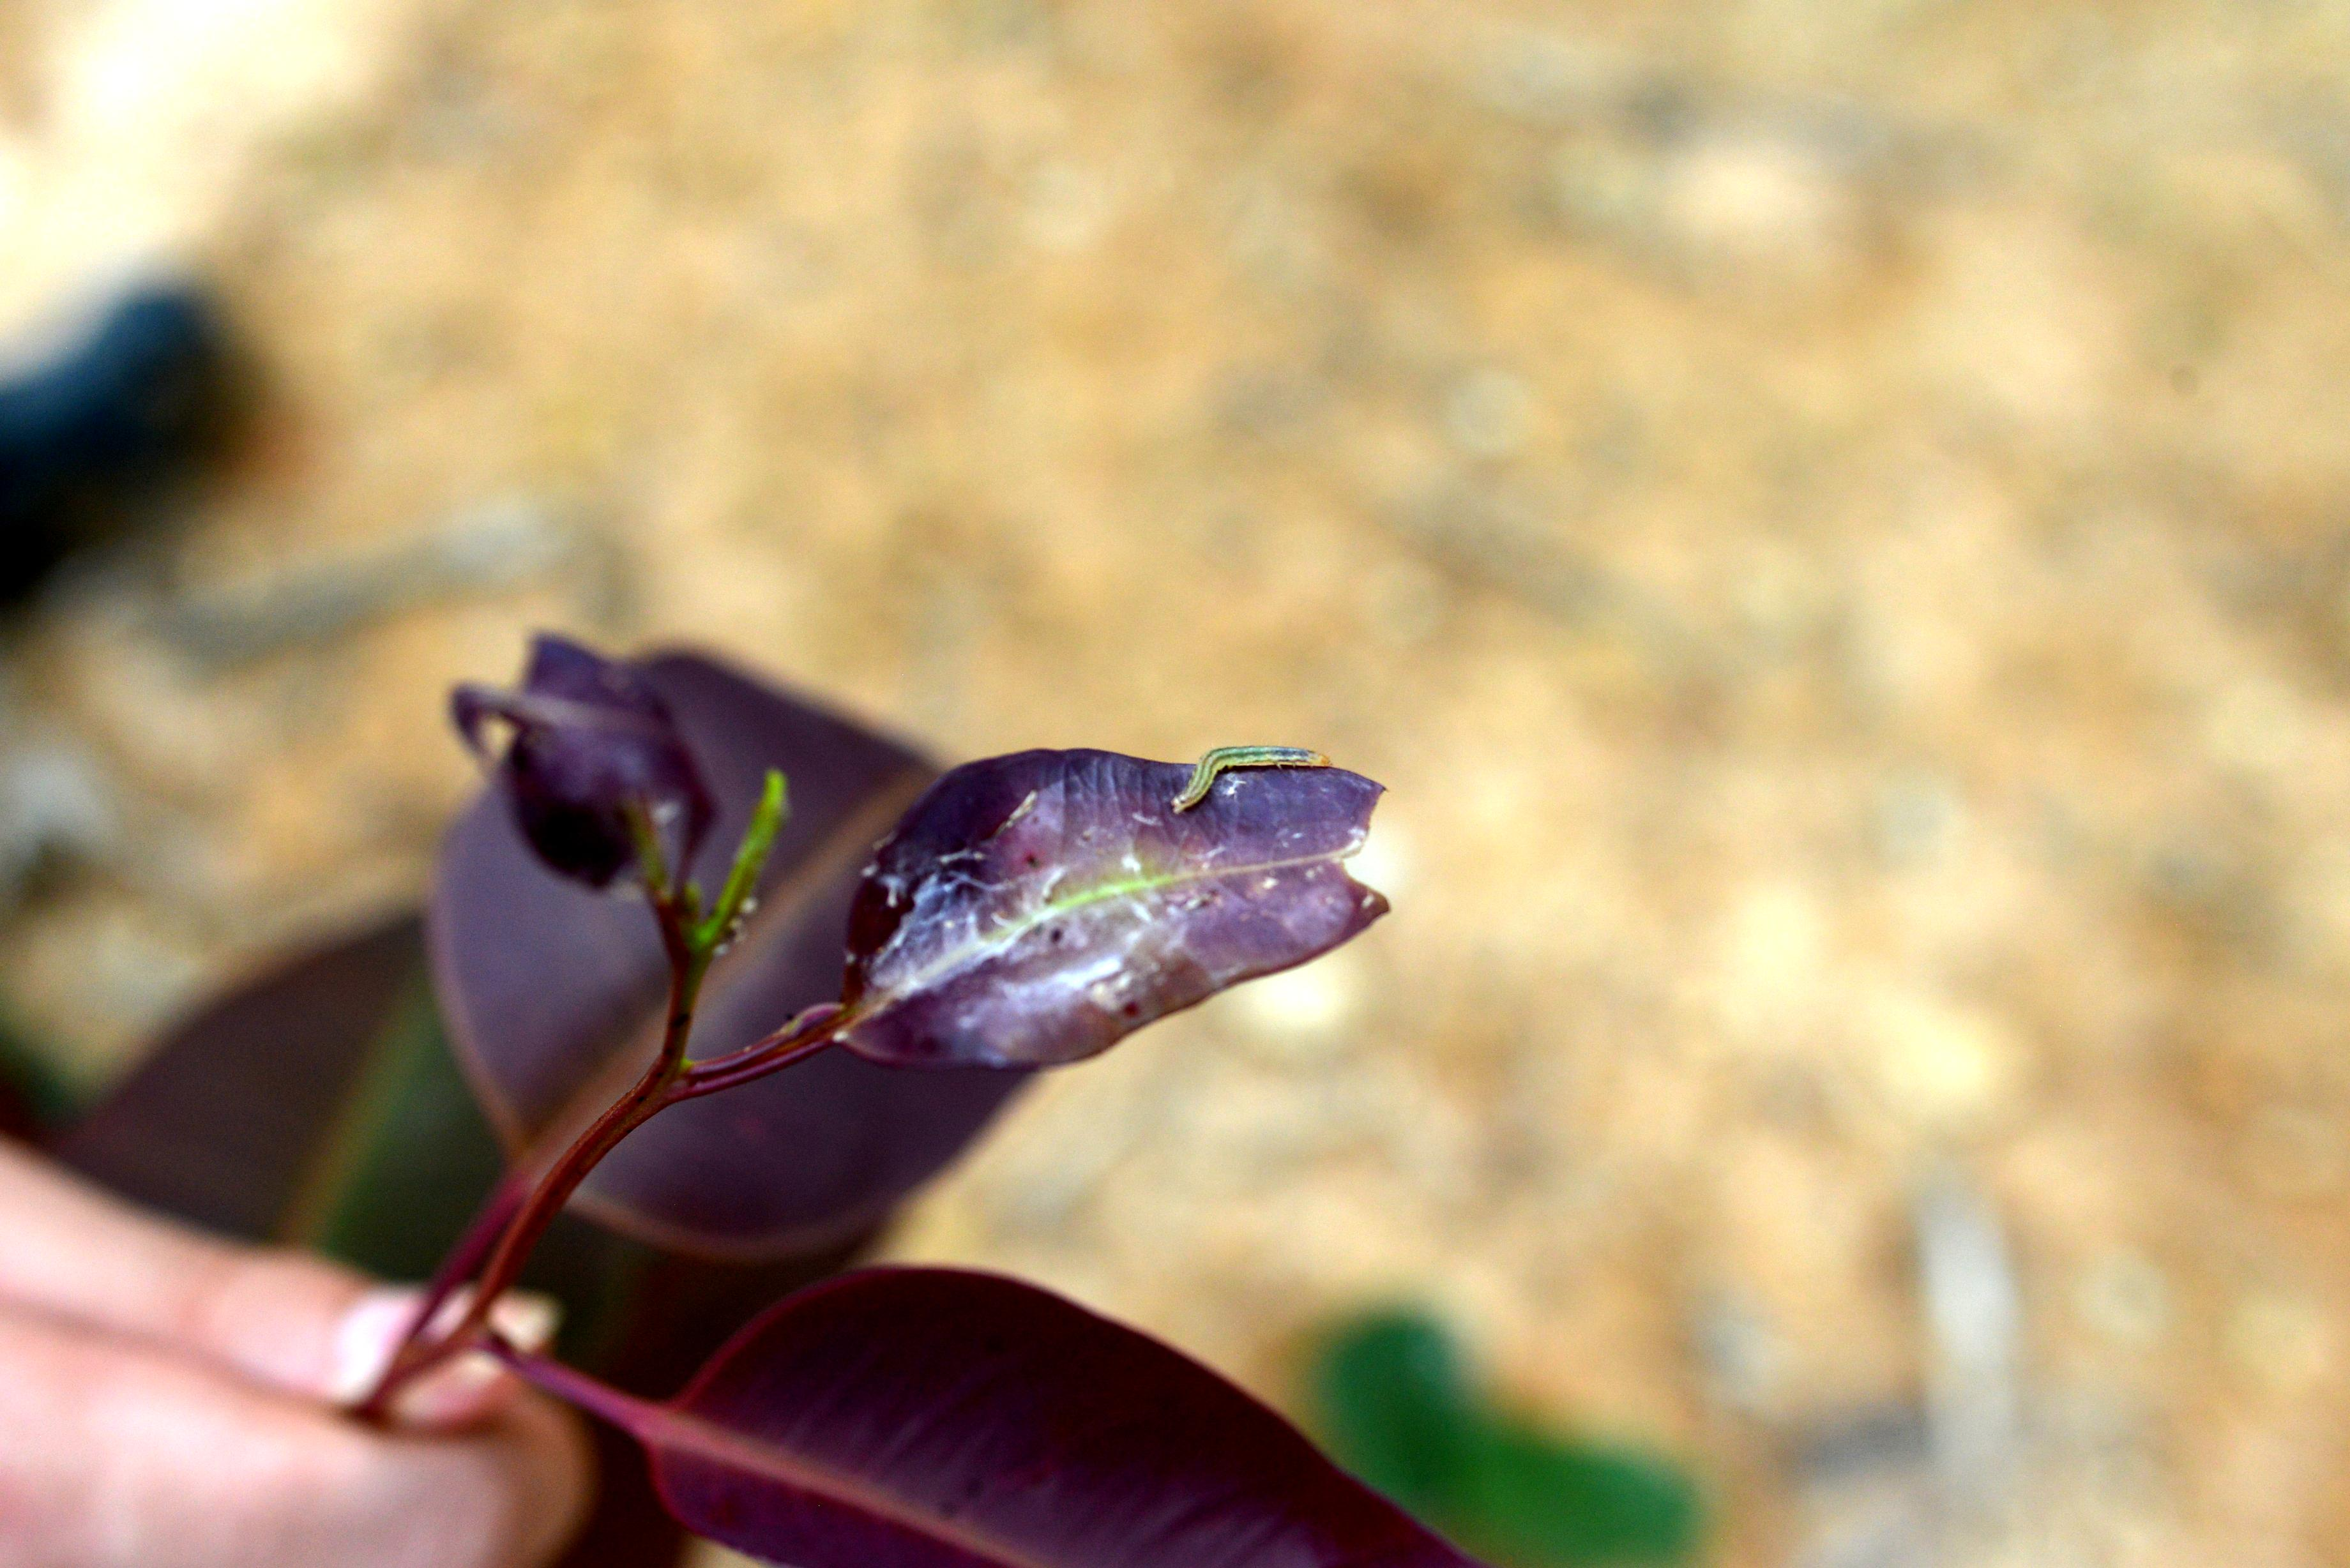Leaf Roller - Insect: (1172, 743, 1333, 809)
Leaf Roller - Leaf: (851, 756, 1386, 1080), (432, 633, 725, 924)
